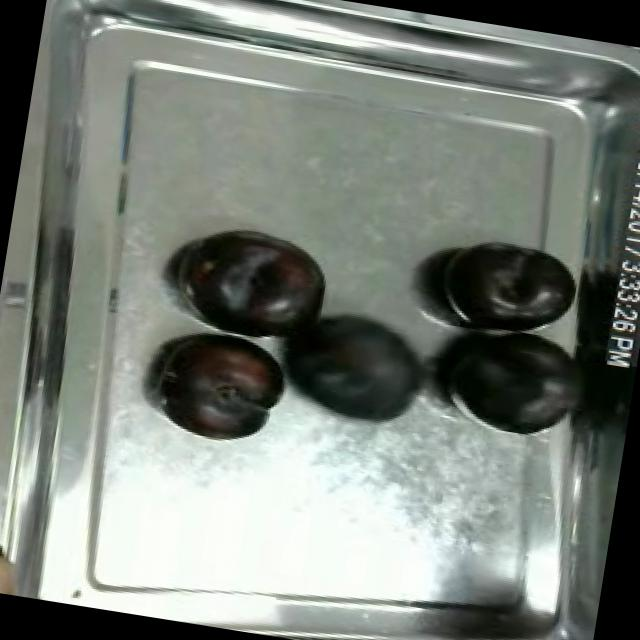Fruit: (424, 313, 604, 453), (174, 215, 346, 348), (285, 297, 438, 439), (425, 224, 588, 346), (149, 322, 297, 451), (0, 537, 40, 598)
